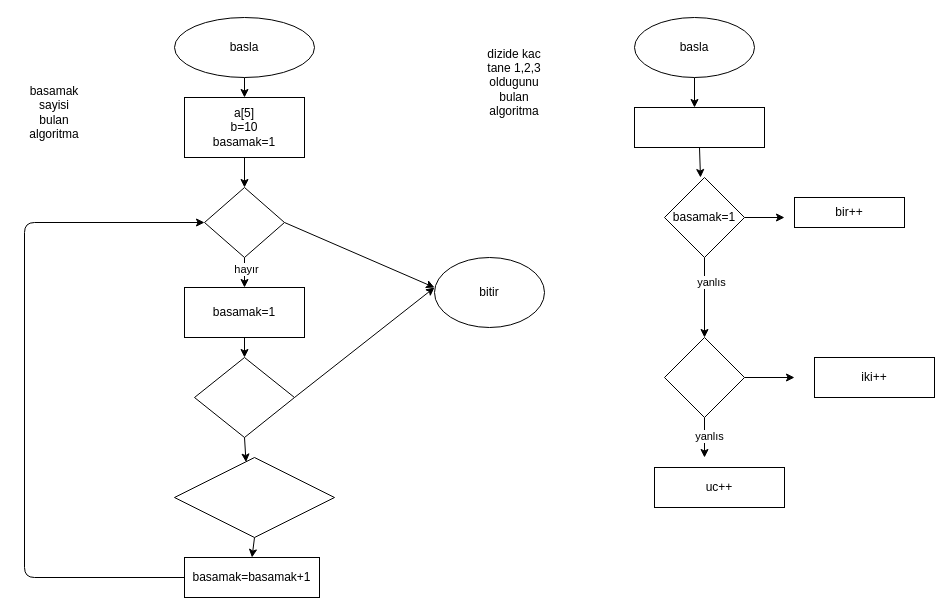
This 952x615 diagram has some shape labels left out. Here are the shapes that lost their labels. From the top down, the box of each, then its label:
(634, 106, 764, 148): bir=0,iki=0,üc=0
(204, 186, 284, 258): i>len(a)
(194, 356, 294, 438): i>2
(664, 336, 744, 418): basamak=2
(174, 456, 334, 538): int(a[i]/(b*(10**x)))!=0:
